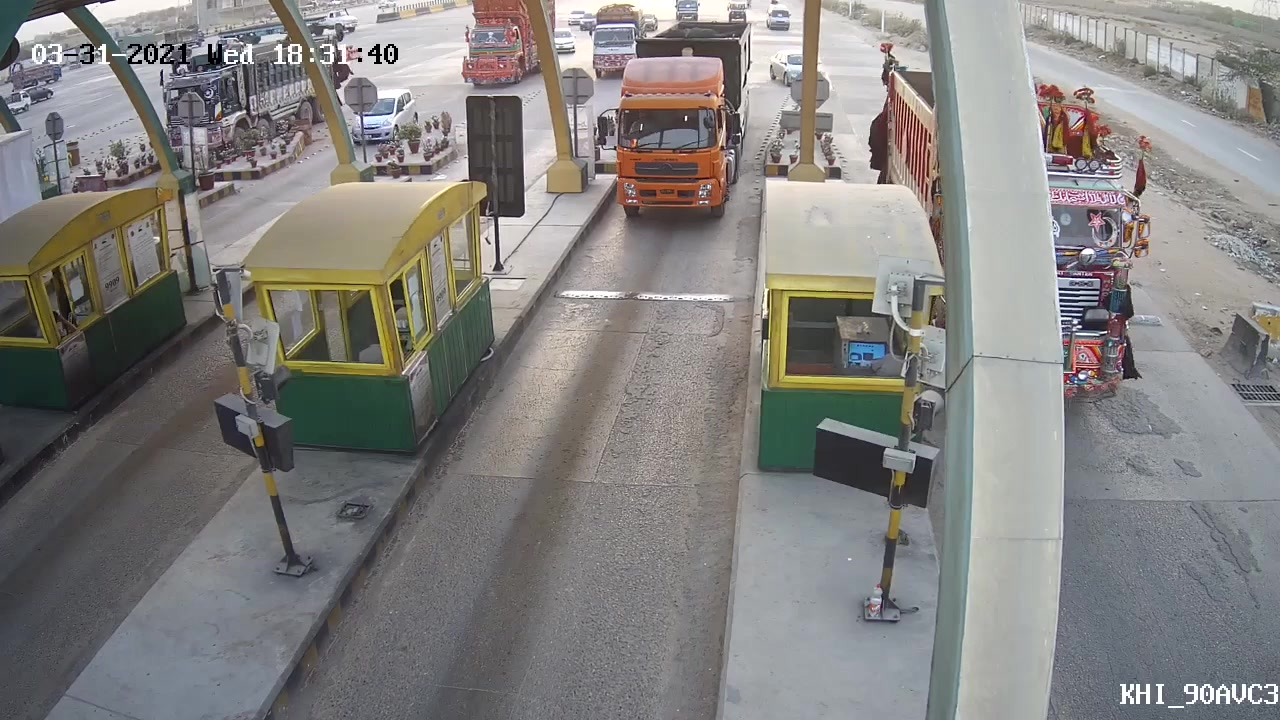F6: (590, 27, 764, 227)
